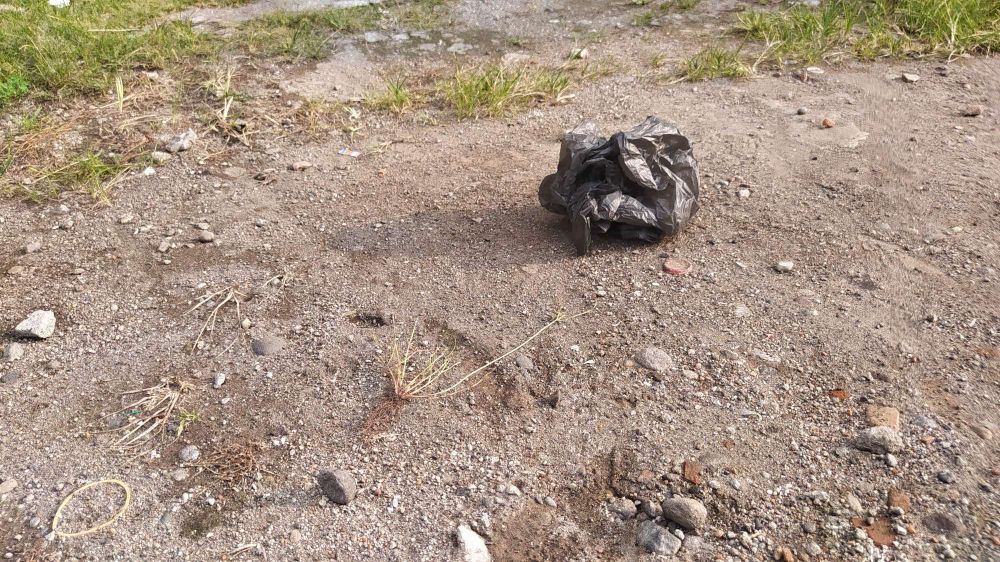plastik: (536, 118, 713, 257)
